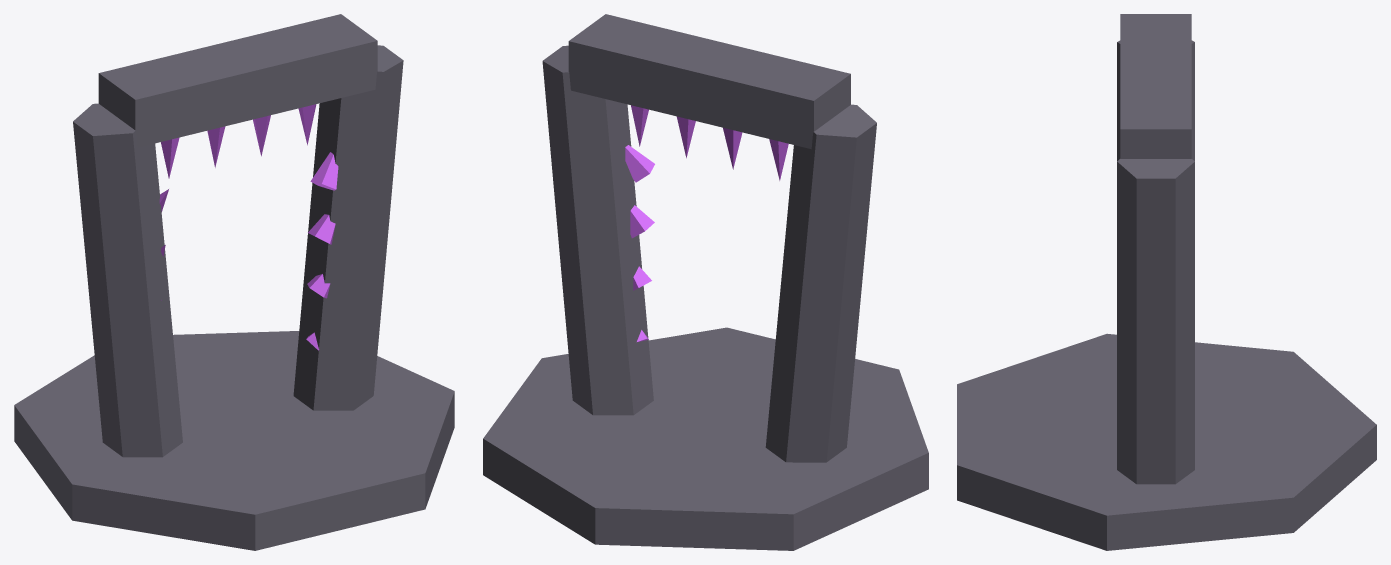
The model's file is Portal_Caverna_Cristales.fbx.
The picture shows the model from 3 angles, left to right: view 1: azimuth 30°, elevation 25°; view 2: azimuth 150°, elevation 25°; view 3: azimuth 270°, elevation 25°; orthographic projection. The views are drawn at different scales.
Parts seen in each view (by area): view 1: P2_Base_Roca, P2_PilarRoca_-1.9, P2_PilarRoca_1.9, P2_Techo_Geoda, P2_Spike_1.9_4; view 2: P2_Base_Roca, P2_PilarRoca_-1.9, P2_PilarRoca_1.9, P2_Techo_Geoda, P2_Spike_1.9_4; view 3: P2_Base_Roca, P2_PilarRoca_1.9, P2_Techo_Geoda, P2_PilarRoca_-1.9.
Boxes of the visible parts, x1,y1,x2,y2 form: P2_Base_Roca: (14,331,454,550); P2_PilarRoca_-1.9: (73,103,182,457); P2_PilarRoca_1.9: (293,45,403,410); P2_Techo_Geoda: (98,14,377,147); P2_Spike_1.9_4: (310,152,338,190); P2_Base_Roca: (483,327,928,550); P2_PilarRoca_-1.9: (765,104,876,462); P2_PilarRoca_1.9: (542,45,653,415); P2_Techo_Geoda: (568,14,850,149); P2_Spike_1.9_4: (625,145,654,182); P2_Base_Roca: (957,333,1376,550); P2_PilarRoca_1.9: (1117,159,1194,484); P2_Techo_Geoda: (1120,14,1191,158); P2_PilarRoca_-1.9: (1117,40,1194,161).
Size of the model in its own units: 663 by 660 by 646.
